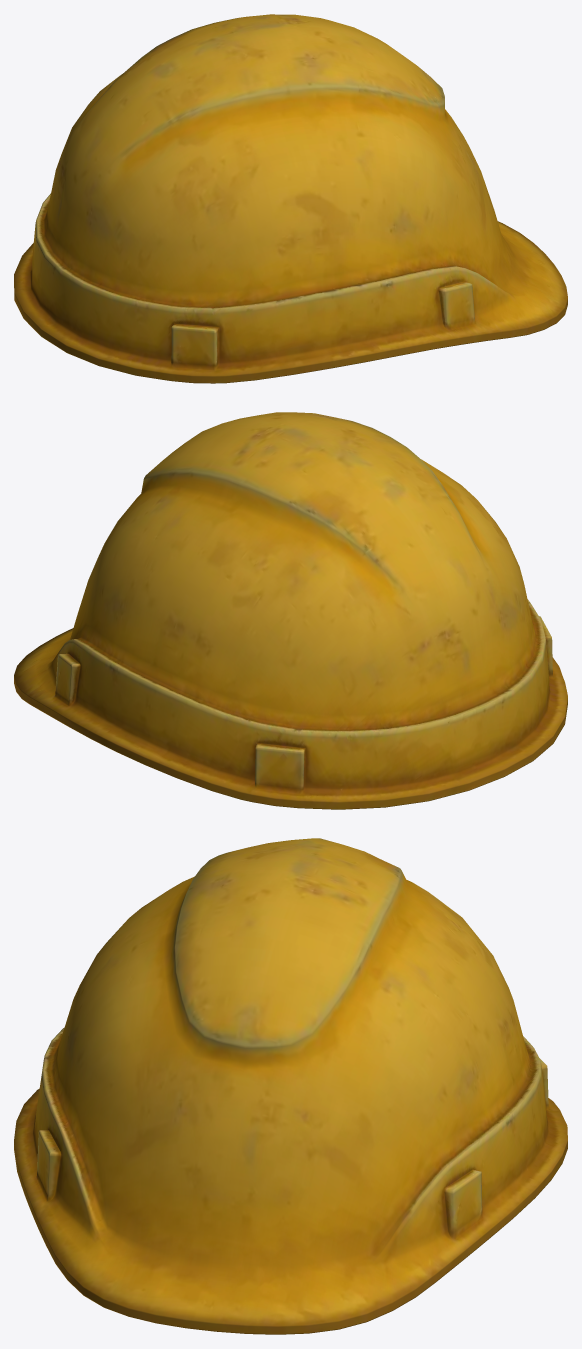
The model's file is helmet1.glb.
3 views of the same model, one above another, from view 1: azimuth 30°, elevation 25°; view 2: azimuth 150°, elevation 25°; view 3: azimuth 270°, elevation 25° (orthographic). The views are drawn at different scales.
Visible parts, largest first — view 1: Object_3; view 2: Object_3; view 3: Object_3.
Part boxes in pixels (x1=…): Object_3: x1=14, y1=14, x2=567, y2=383; Object_3: x1=14, y1=412, x2=567, y2=809; Object_3: x1=14, y1=838, x2=567, y2=1334.
Size of the model in its own units: 1.12 by 0.6273 by 0.9677.
Materials: 1 (1 with a texture image).
